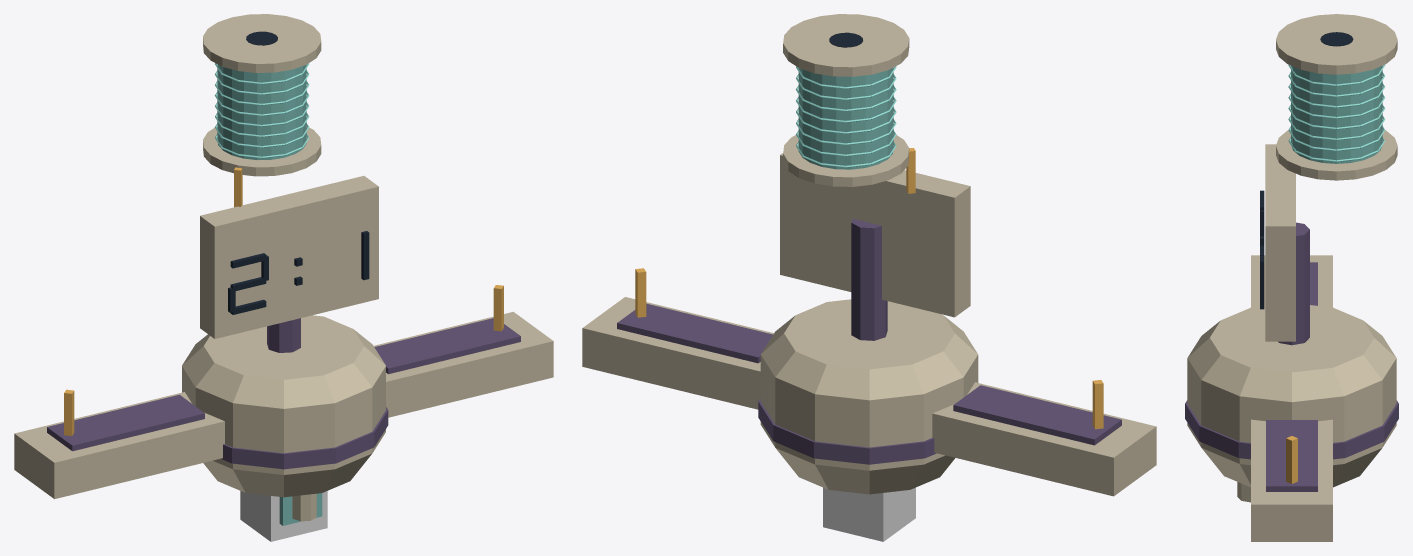
File: space_port_timber.glb
3 views of the same model, side by side, from view 1: azimuth 30°, elevation 25°; view 2: azimuth 150°, elevation 25°; view 3: azimuth 270°, elevation 25° (orthographic). The views are drawn at different scales.
Visible parts, largest first — view 1: FixedDetails, BrassTrim, WoodBody; view 2: FixedDetails, BrassTrim, WoodBody; view 3: FixedDetails, BrassTrim.
Boxes of the visible parts, x1,y1,x2,y2 form: FixedDetails: (14, 14, 553, 525); BrassTrim: (64, 63, 503, 436); WoodBody: (240, 491, 327, 541); FixedDetails: (582, 14, 1156, 496); BrassTrim: (635, 66, 1103, 429); WoodBody: (823, 487, 915, 541); FixedDetails: (1185, 14, 1398, 541); BrassTrim: (1286, 64, 1385, 483).
Bounding box in the file's own units: 0.79 × 0.71 × 0.286.
